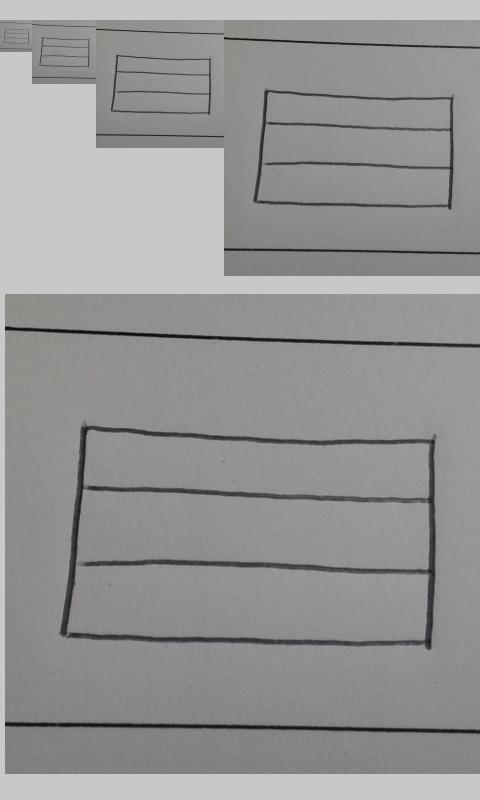list_view: (61, 422, 440, 657), (253, 87, 456, 212), (111, 54, 212, 118), (39, 37, 90, 68), (3, 28, 29, 45)
